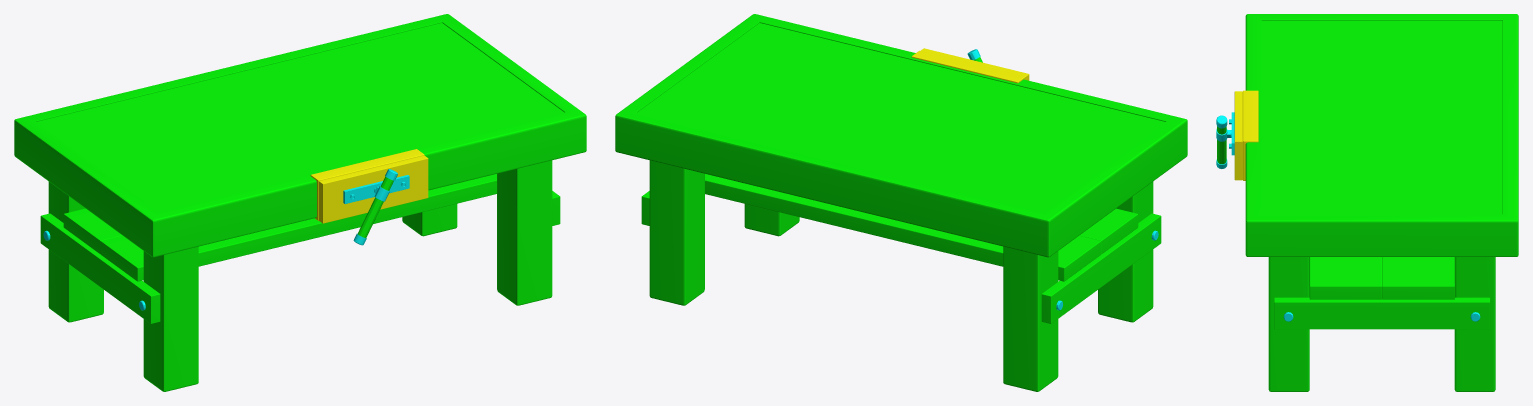
Rendered from werktisch_HP.fbx.
The picture shows the model from 3 angles, left to right: view 1: azimuth 30°, elevation 25°; view 2: azimuth 150°, elevation 25°; view 3: azimuth 270°, elevation 25°; orthographic projection. The views are drawn at different scales.
Parts seen in each view (by area): view 1: tisch_high, zwinge_high, hebel_high; view 2: tisch_high, zwinge_high; view 3: tisch_high, zwinge_high, hebel_high.
Boxes of the visible parts, x1,y1,x2,y2 form: tisch_high: [14, 14, 586, 391]; zwinge_high: [310, 149, 428, 223]; hebel_high: [353, 169, 397, 245]; tisch_high: [615, 14, 1187, 391]; zwinge_high: [911, 48, 1029, 83]; tisch_high: [1245, 14, 1518, 391]; zwinge_high: [1231, 90, 1258, 180]; hebel_high: [1216, 115, 1231, 168].
Bounding box in the file's own units: 36 × 15.16 × 22.15.
